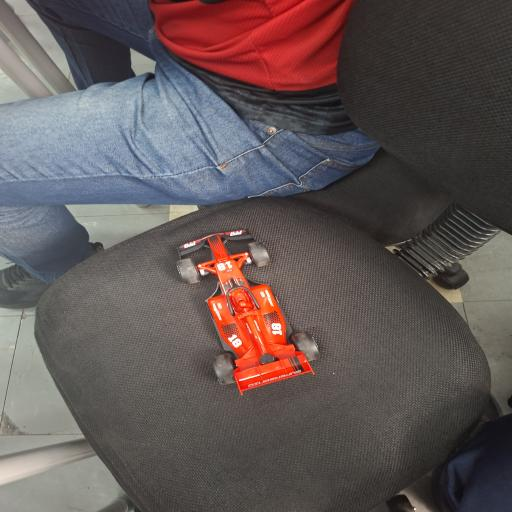carro: (178, 230, 318, 393)
